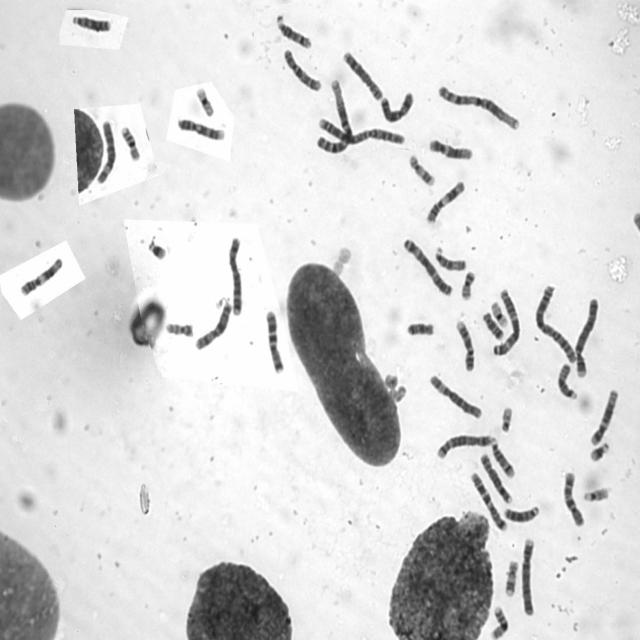A1: (436, 81, 521, 132), (314, 76, 354, 154)
A2: (532, 282, 578, 364), (314, 114, 405, 150)
A3: (401, 235, 454, 298), (488, 285, 522, 358)
B4: (571, 300, 603, 378), (519, 534, 536, 616)
B5: (434, 432, 497, 461), (226, 234, 244, 318)
C10: (281, 45, 322, 93), (560, 468, 585, 527)
C11: (423, 177, 466, 225), (18, 256, 64, 296)
C12: (587, 386, 620, 446), (426, 137, 474, 161)
C6: (426, 371, 484, 421), (94, 116, 117, 186)
C7: (468, 469, 509, 533), (263, 307, 286, 375)
C8: (341, 48, 384, 103), (478, 450, 513, 506)
C9: (175, 115, 226, 142), (453, 316, 476, 372)
D13: (69, 12, 112, 33), (502, 501, 540, 524)
D14: (274, 11, 313, 50), (488, 436, 516, 480)
D15: (555, 360, 579, 402), (433, 245, 468, 272)
E16: (118, 124, 142, 162), (489, 604, 509, 639)
E17: (408, 151, 437, 188), (502, 558, 520, 597)
E18: (480, 309, 504, 342), (402, 319, 436, 338)
F19: (193, 84, 216, 118), (490, 298, 509, 329)
F20: (163, 319, 195, 339), (458, 268, 476, 301)
G21: (144, 235, 170, 262), (587, 439, 611, 463)
G22: (581, 483, 611, 502), (498, 403, 514, 434)
X: (192, 297, 234, 352), (377, 88, 416, 124)
